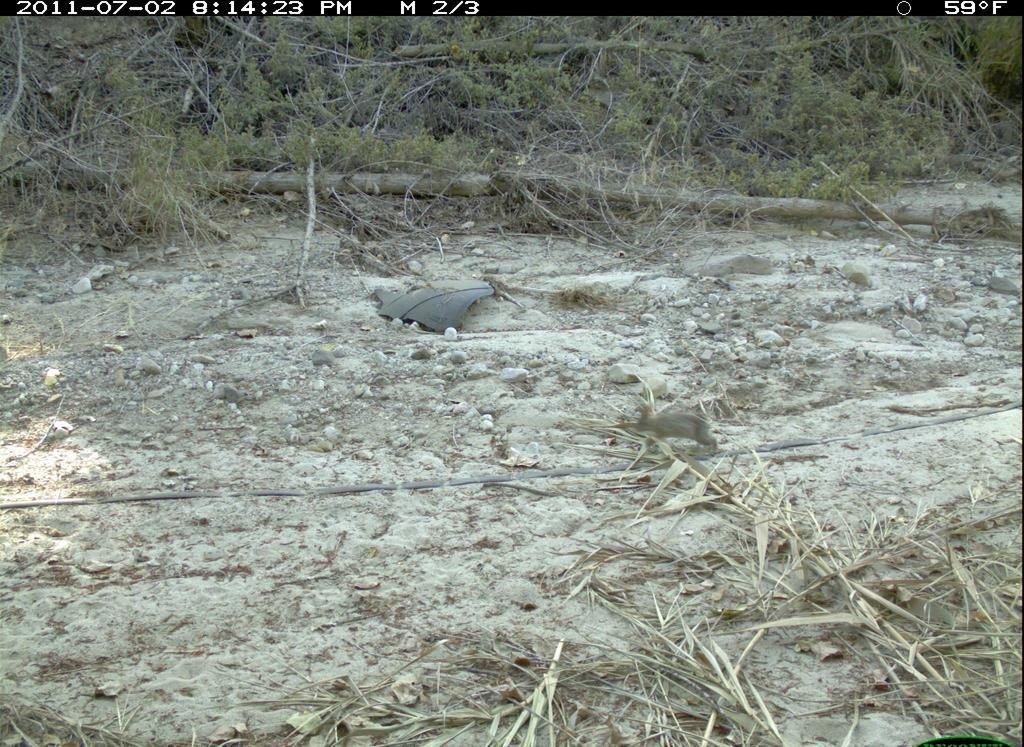rabbit: (623, 385, 728, 460)
